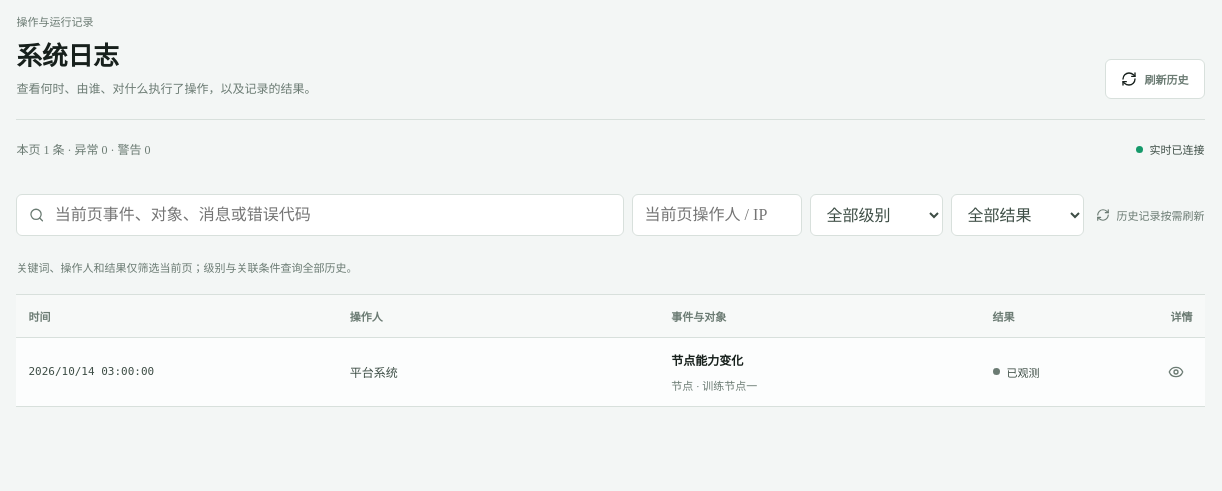
it: Admin logs reading workflow › searches semantic text and filters outcomes without inventing success
This screenshot has width=1222, height=491.
Type "能力变化" into the search field at (332, 215), box [53,205,611,225]
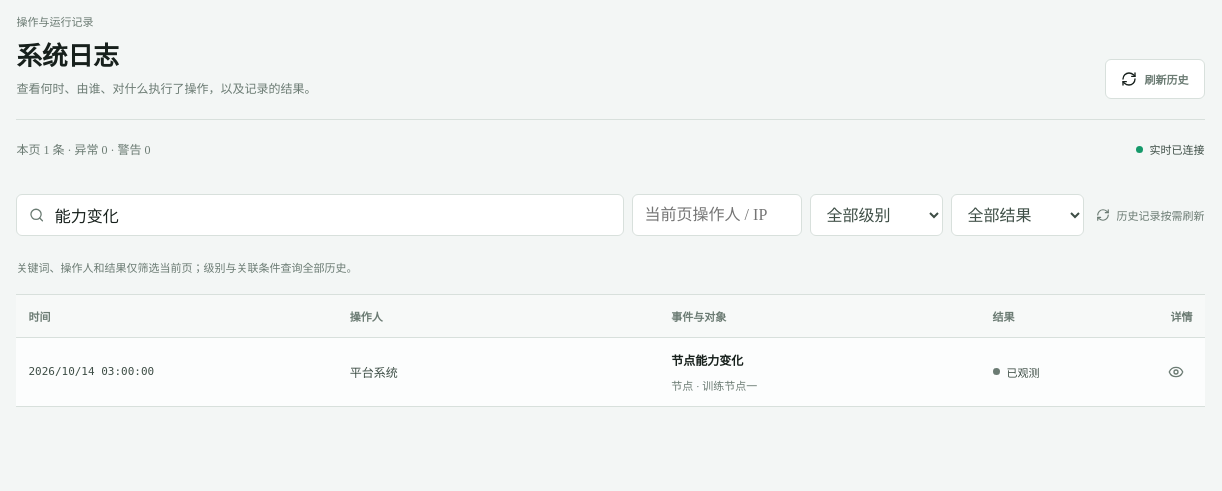
Expected: the text "节点能力变化" is shown, [671,354,743,368]
Select "成功" in the dropdown named "筛选当前页结果" at (1017, 215), box [951,194,1084,236]
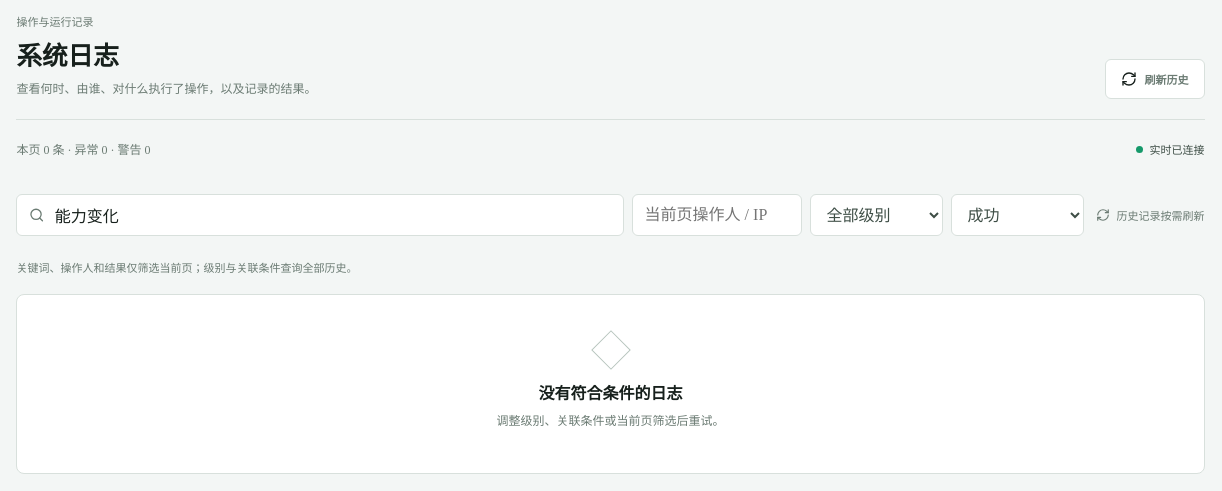
Expected: the text "没有符合条件的日志" is shown, [538,380,682,404]
